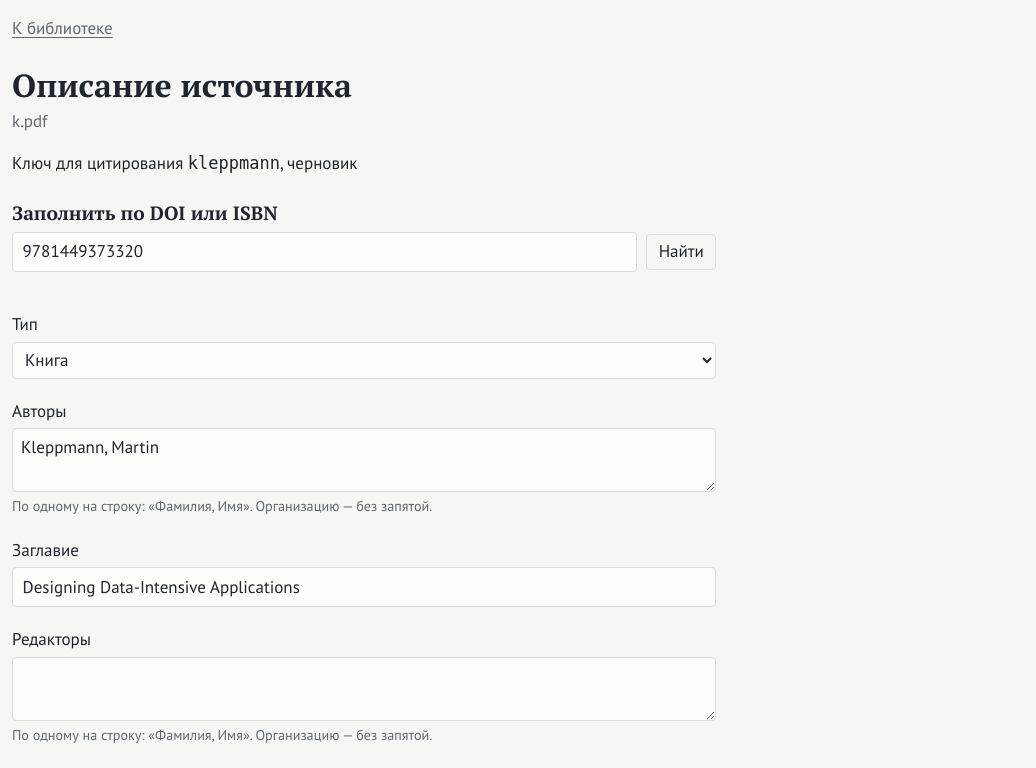
Test: DescribePage › says when an identifier is unknown
This screenshot has width=1036, height=768.
Click the button "Найти" at (681,252), box [646,234,716,270]
(page scrolled)
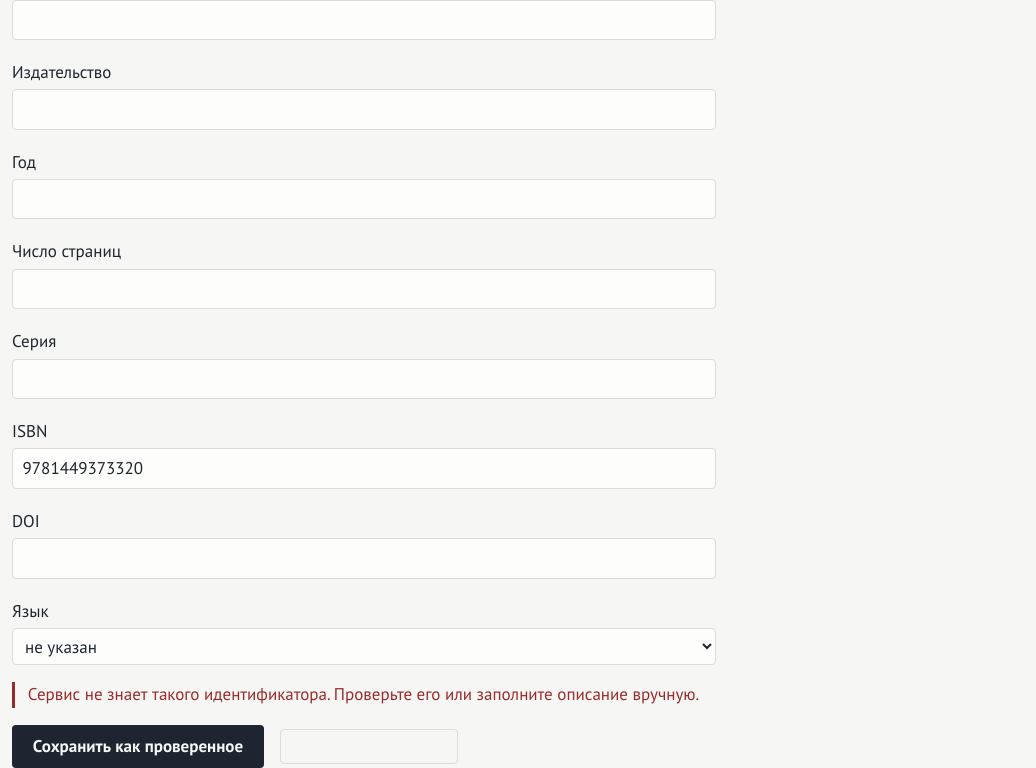
Expected: the message shows "не знает такого идентификатора", [28,683,699,705]
